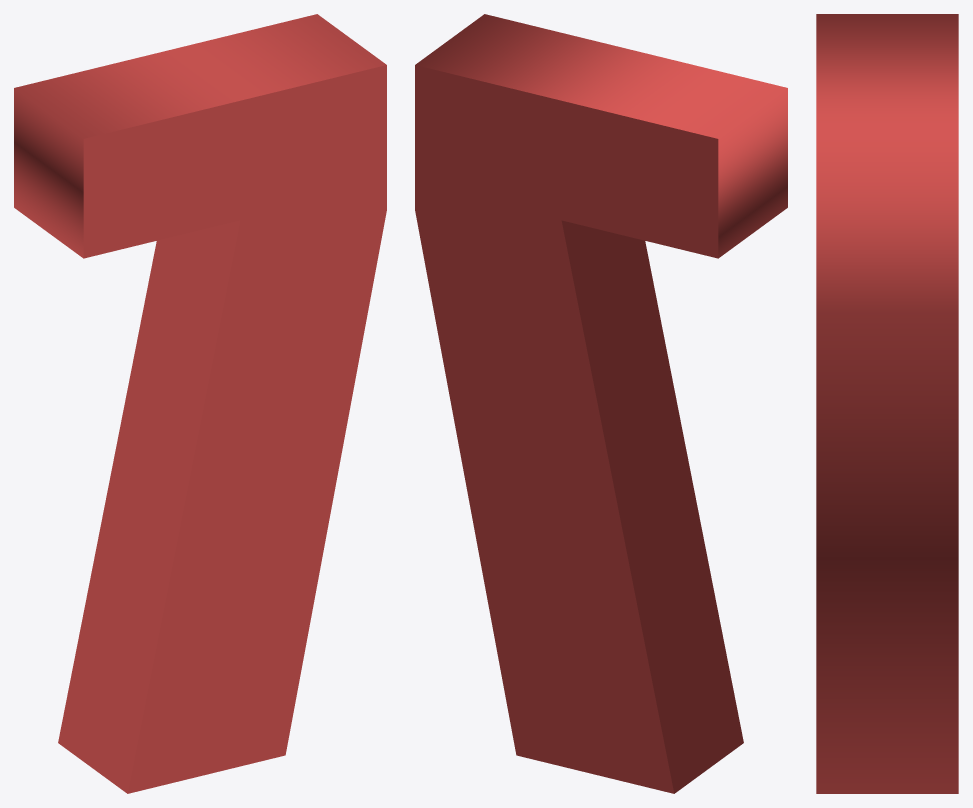
The picture shows the model from 3 angles, left to right: view 1: azimuth 30°, elevation 25°; view 2: azimuth 150°, elevation 25°; view 3: azimuth 270°, elevation 25°; orthographic projection. The views are drawn at different scales.
Visible parts, largest first — view 1: テキスト; view 2: テキスト; view 3: テキスト.
Boxes of the visible parts, bbox=[...] form: テキスト: bbox=[14, 14, 386, 793]; テキスト: bbox=[415, 14, 787, 793]; テキスト: bbox=[816, 14, 958, 793].
Bounding box in the file's own units: 0.2515 × 0.5275 × 0.1.
